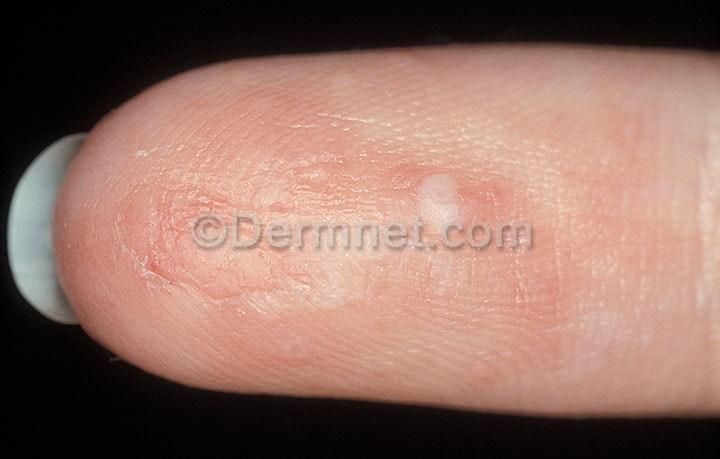Eczema: (311, 126, 521, 334), (114, 164, 295, 321)
